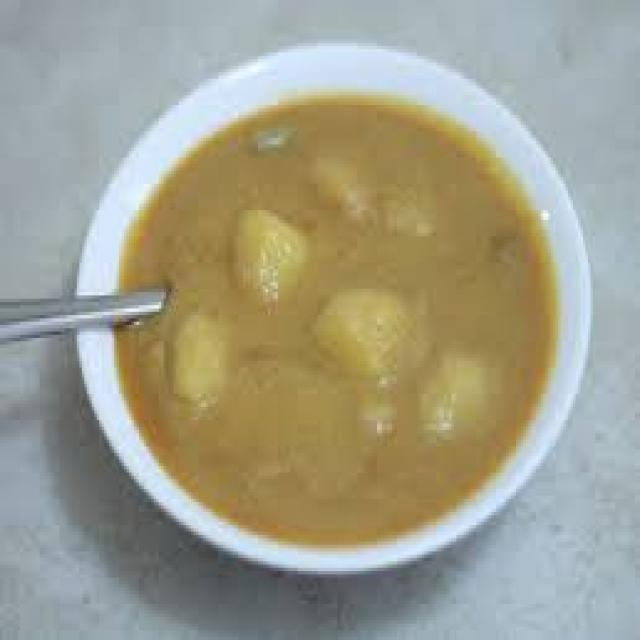paal kolukattai: (110, 47, 560, 549)
